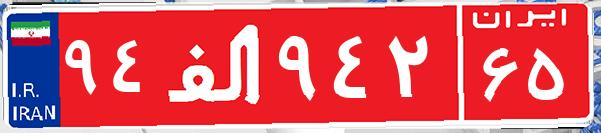2: (385, 28, 445, 110)
4: (330, 28, 385, 110), (110, 28, 158, 105)
5: (525, 38, 570, 115)
6: (475, 38, 525, 113)
9: (273, 28, 330, 110), (57, 26, 110, 107)
الف: (158, 15, 273, 115)
